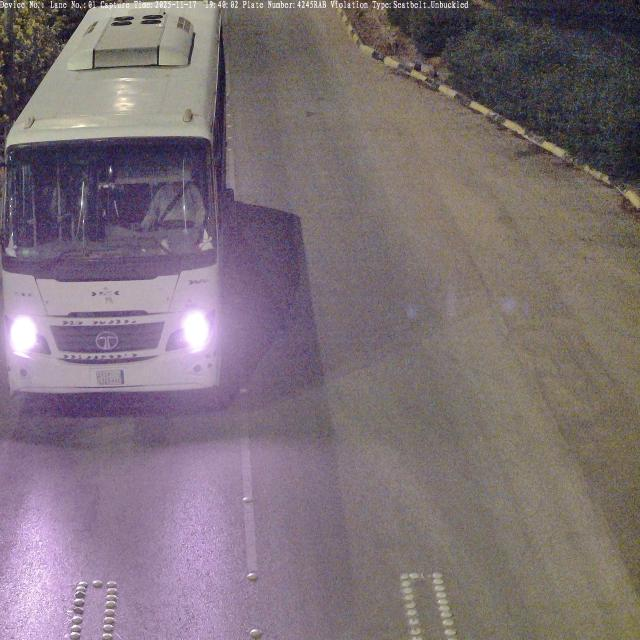person_with_seatbelt: (143, 173, 212, 237)
